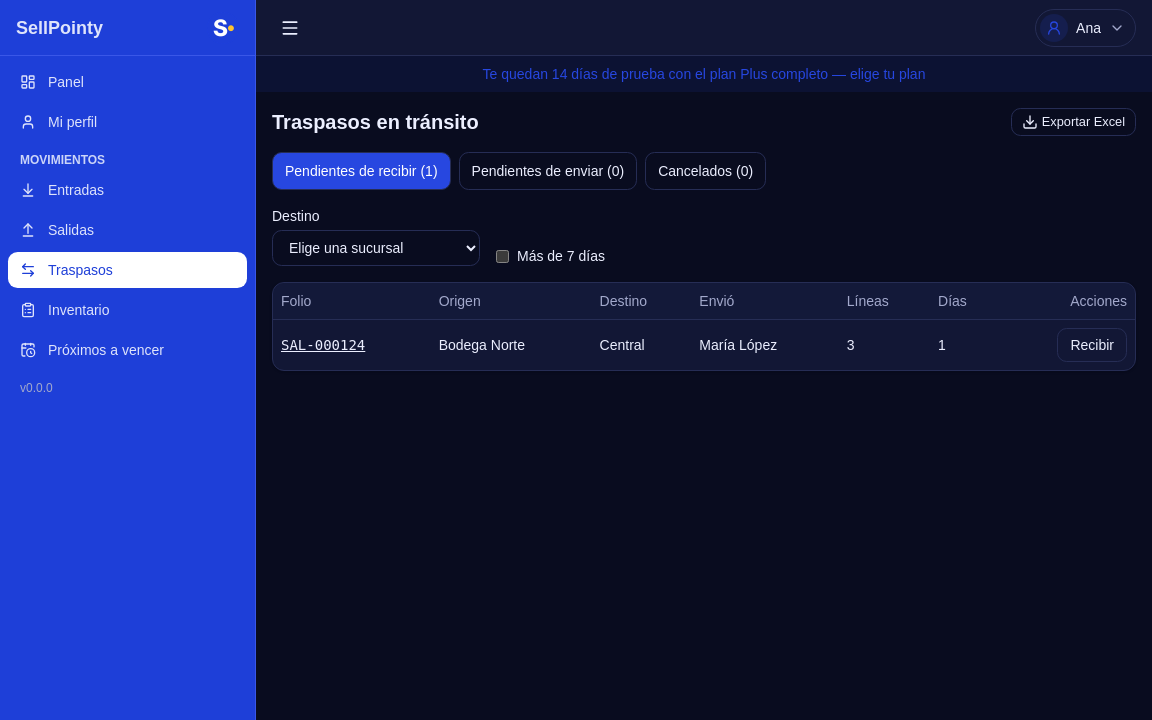
Test: Lanzar la recepción (F3-TRANSFER-06) › el diálogo NO captura cantidades: solo confirma la intención
Expected: the link "SAL-000124" is shown, top-left (281, 337), bottom-right (365, 353)
Click the button "Recibir": (1092, 345) top-left (1057, 328), bottom-right (1127, 362)
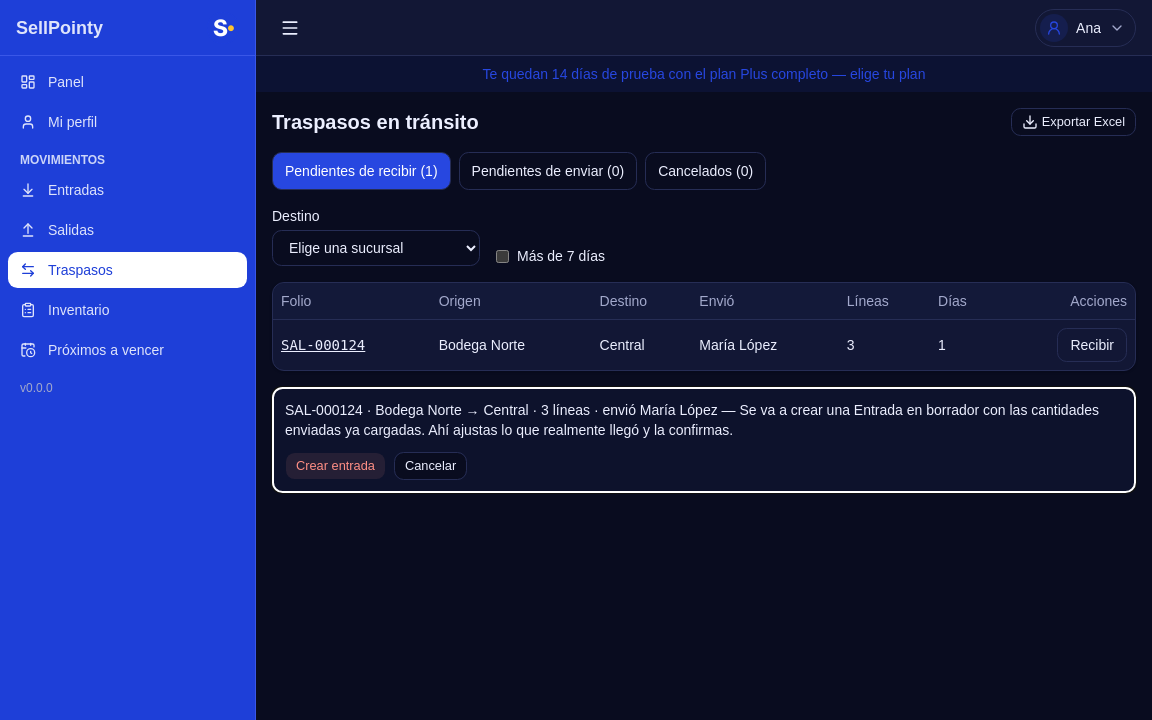
Now the text "Bodega Norte" is shown, box top-left (285, 402), bottom-right (1099, 438)
